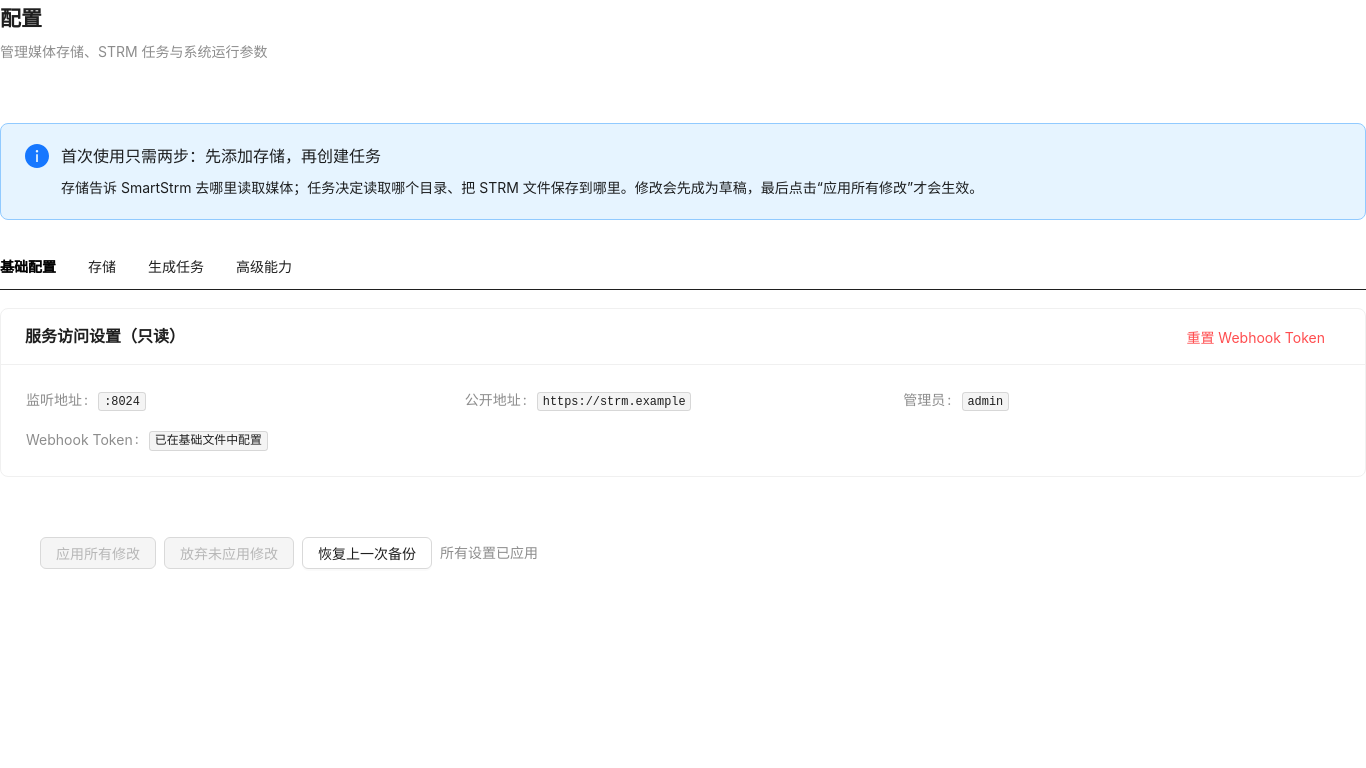
Test: 重置 Token 需要确认且结果显示一次
What coordinates should you click on to do the following:
click the button "重置 Webhook Token"
I would click on:
 (1256, 337)
Its box is [1170,321,1341,353].
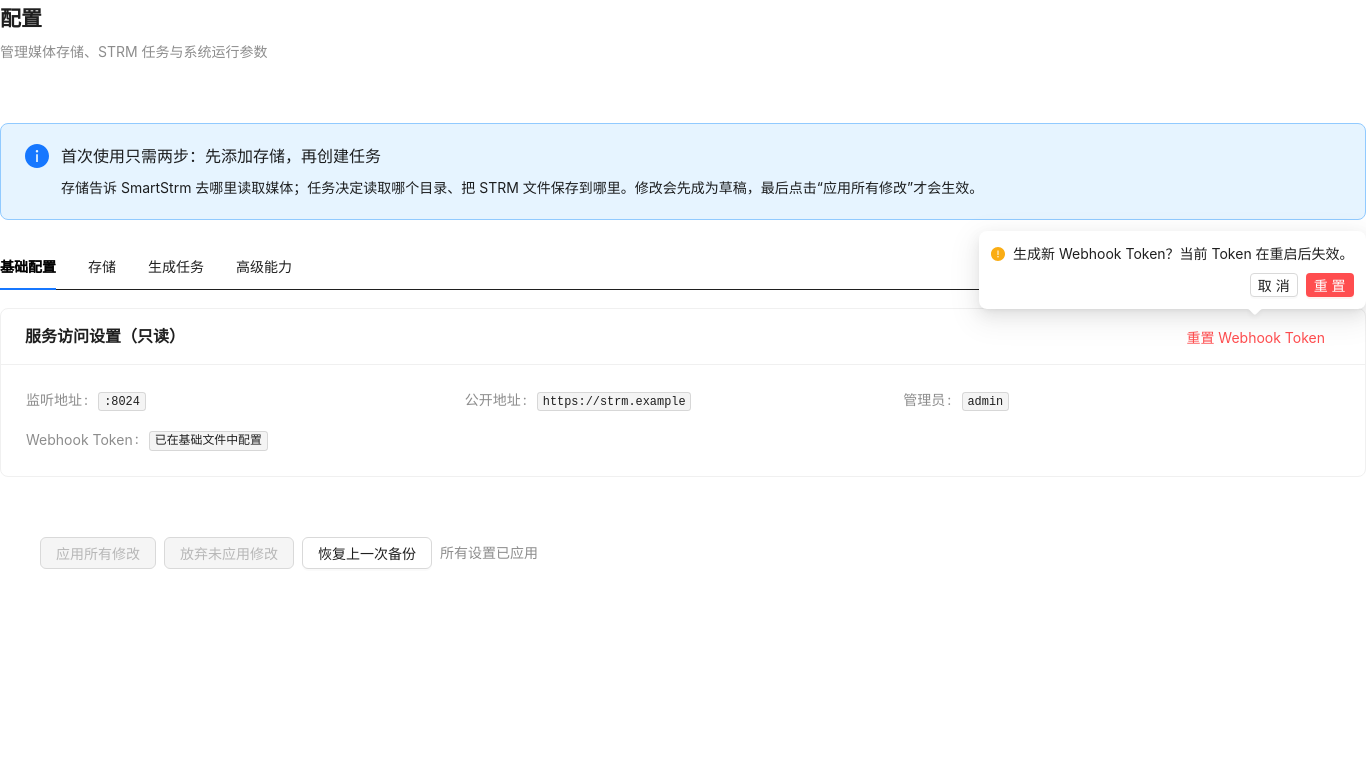
What coordinates should you click on to do the following:
click the button "重 置"
I would click on:
 (1330, 285)
Its box is [1306,273,1354,297].
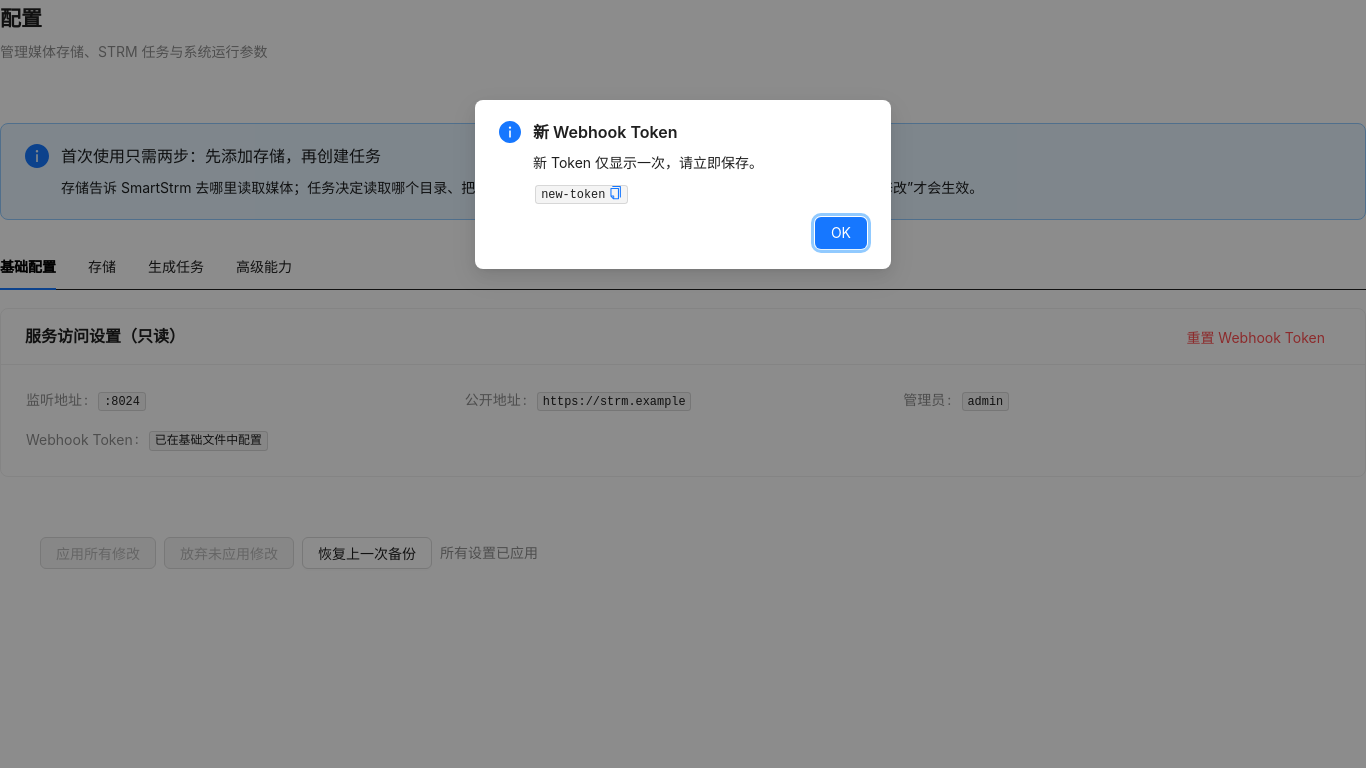
Expected: the text "新 Token 仅显示一次，请立即保存。" is shown, [533,154,763,171]
Expected: the text "new-token" is shown, [535,185,628,204]
